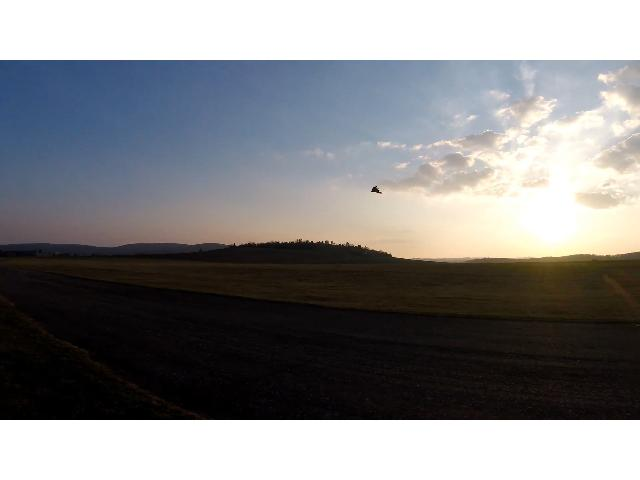Anti-Drone: (370, 187, 386, 194)
